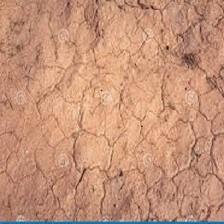clay_soil: (10, 30, 215, 200)
